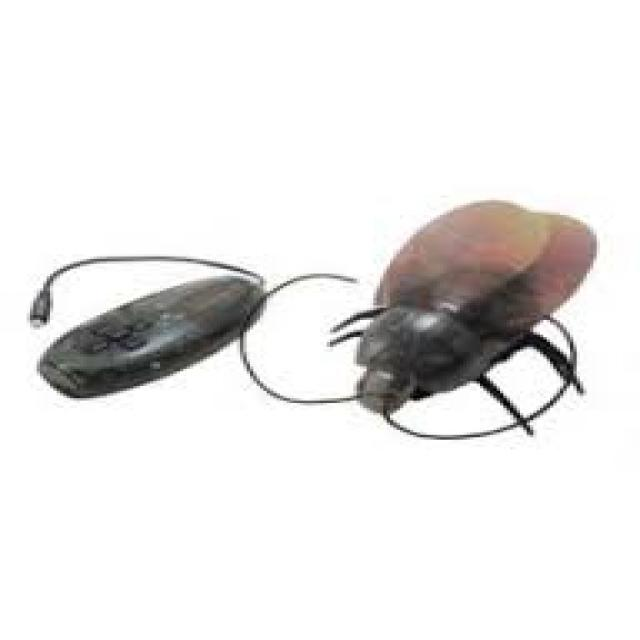Cockroach: (284, 169, 628, 460)
